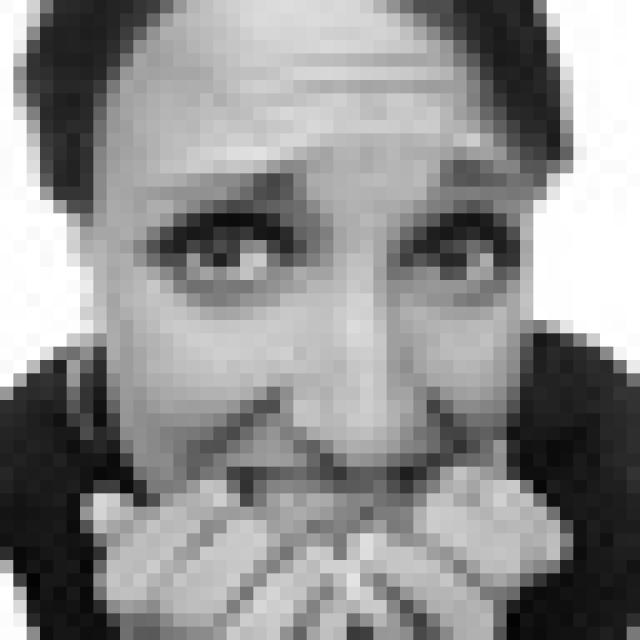fear: (138, 151, 532, 597)
